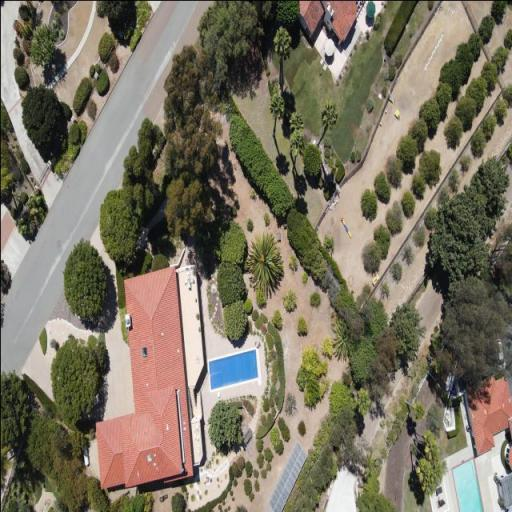solar-panel: (267, 440, 307, 512)
